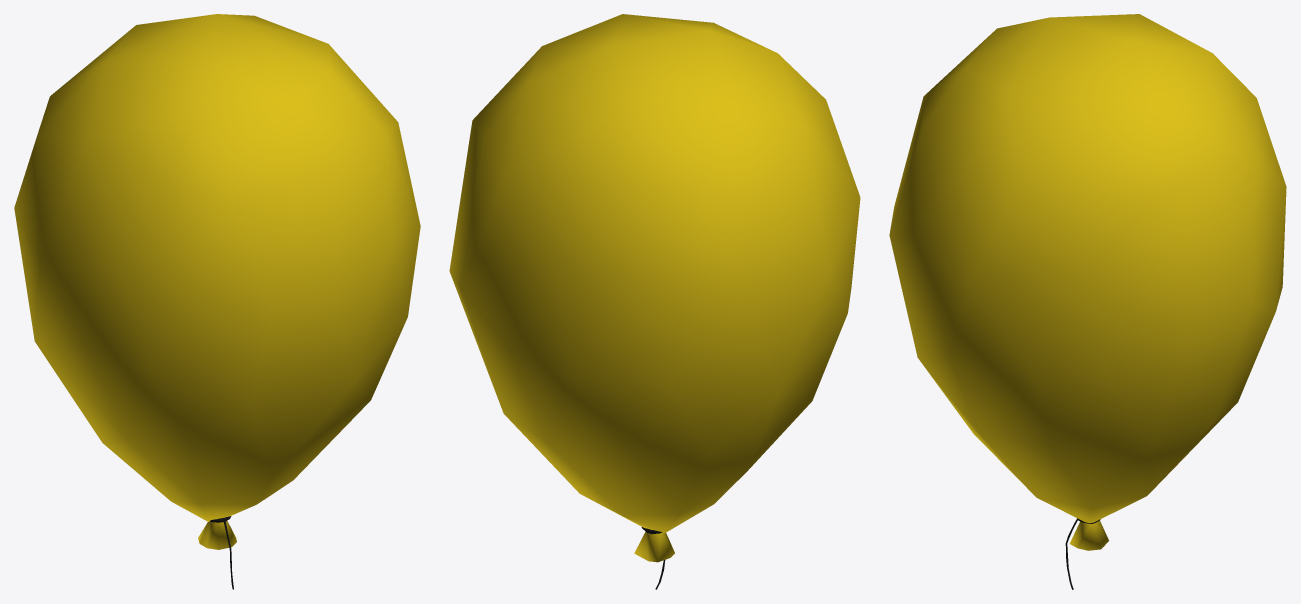
File: GloboAmarillo.obj
3 renders of one model, left to right at view 1: azimuth 30°, elevation 25°; view 2: azimuth 150°, elevation 25°; view 3: azimuth 270°, elevation 25°, orthographic.
Parts seen in each view (by area): view 1: Cube.003, Cylinder.006; view 2: Cube.003, Cylinder.006; view 3: Cube.003, Cylinder.006.
Boxes of the visible parts, box(x1,y1,x2,y2) form: Cube.003: box(14, 14, 420, 521); Cylinder.006: box(198, 516, 236, 549); Cube.003: box(449, 14, 860, 533); Cylinder.006: box(634, 529, 674, 562); Cube.003: box(889, 14, 1286, 523); Cylinder.006: box(1069, 520, 1108, 550).
Bounding box in the file's own units: 2.16 × 3.32 × 2.15.
